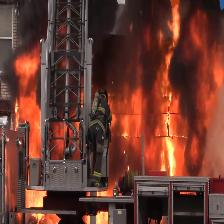fire: (115, 5, 224, 176), (10, 36, 42, 224)
